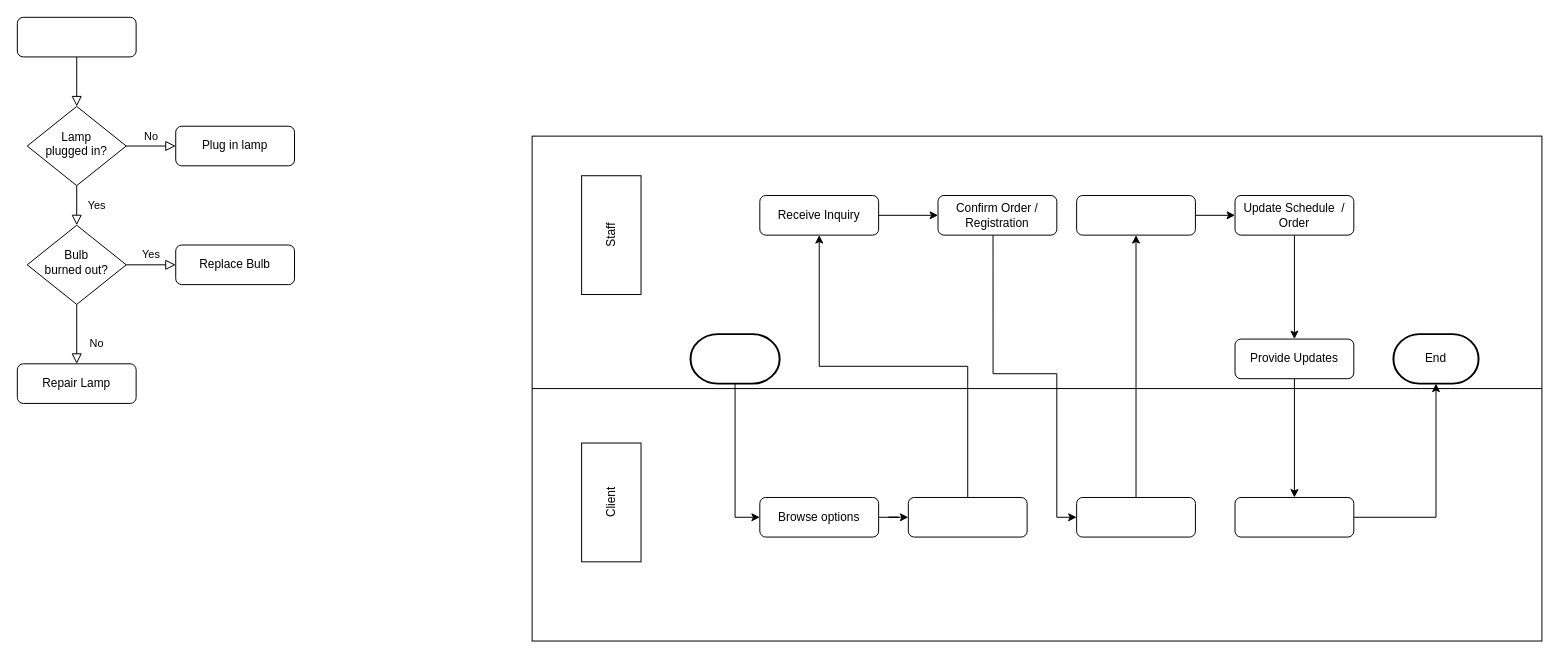
Some shapes in this 1560 by 658 pixel diagram are drawn without their labels. Each missing label, with the centre of its shape:
Lamp doesn't work: [76,36]
Make Payment: [1135,516]
Manage Payment: [1135,215]
Place Order / Register: [967,516]
Receive Notification Updates: [1294,516]
start: [734,358]
